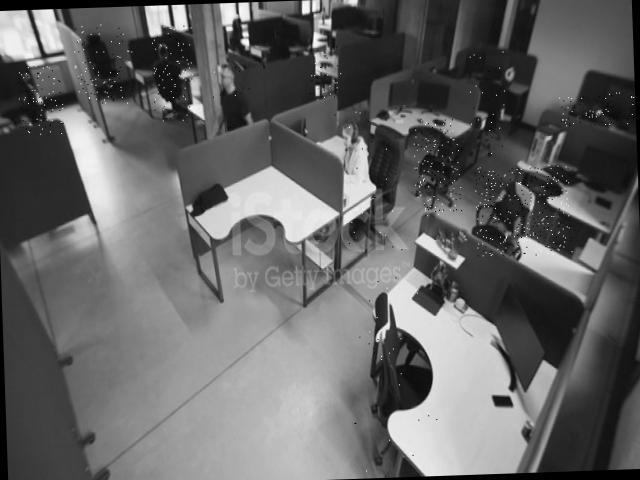empty chair: (348, 271, 440, 479), (474, 164, 572, 258), (73, 23, 135, 106), (413, 118, 462, 216), (469, 52, 507, 156), (17, 65, 64, 136), (308, 46, 342, 98)
occupiedchair: (333, 107, 402, 252), (152, 25, 194, 124), (559, 94, 636, 126)
